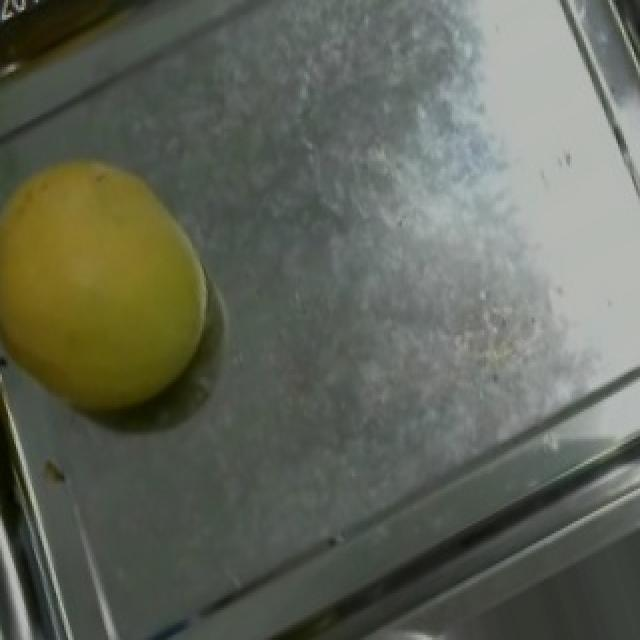fruit: (0, 107, 280, 464)
